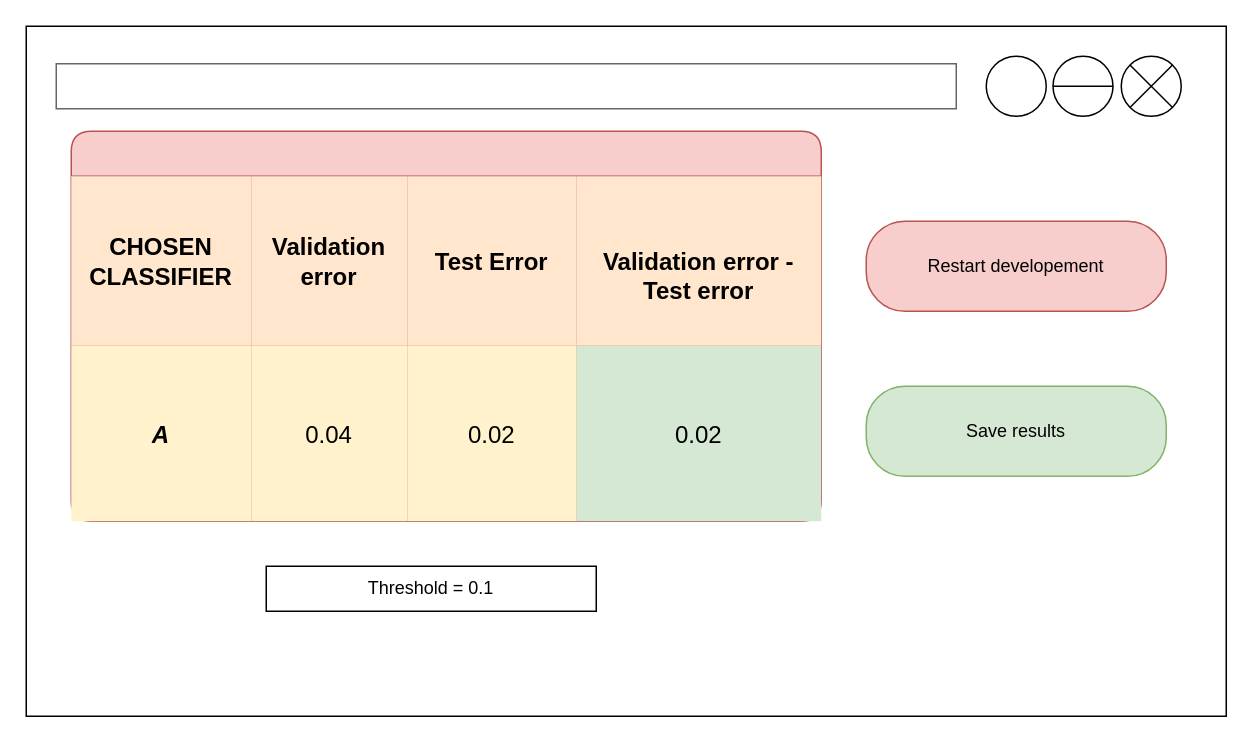
The diagram is 1253 pixels wide and 743 high, and some of its shapes have lost their labels. The shapes that lost their labels are listed below. From the top down, each one's box as (x1, y1, x2, y2) in pixels, then its label:
(55, 62, 956, 109): Validation Results
(70, 130, 821, 521): CHECK TEST RESULT
